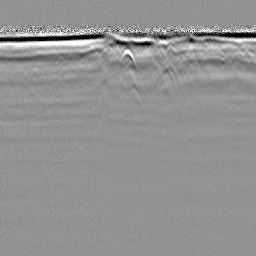cavity: (118, 47, 136, 68)
